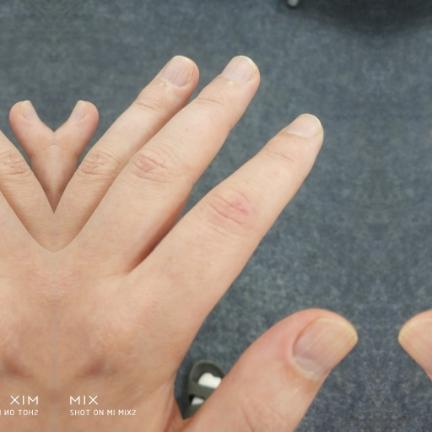Nail: (293, 315, 358, 380), (398, 315, 432, 377), (161, 57, 194, 87), (221, 56, 257, 82), (286, 114, 321, 138), (69, 101, 87, 121), (21, 101, 39, 121)
